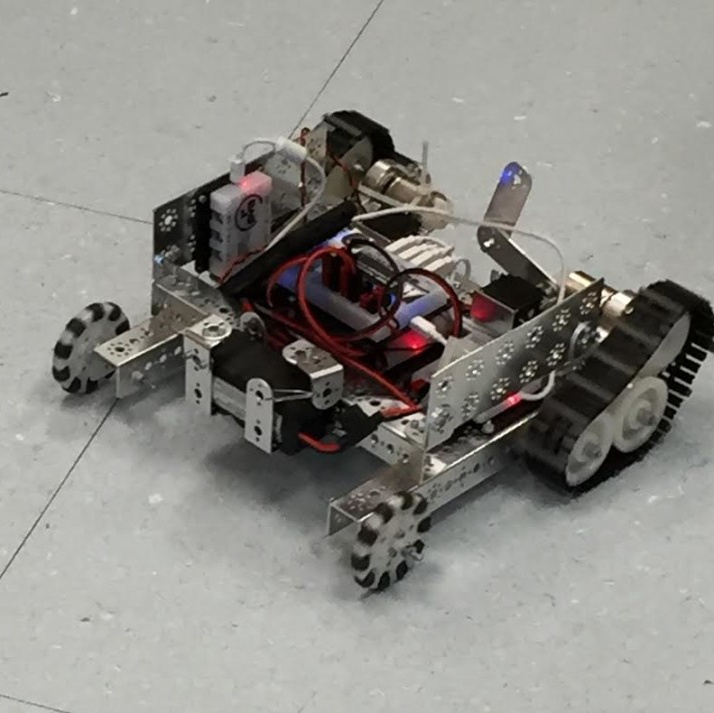robot: (43, 106, 714, 607)
